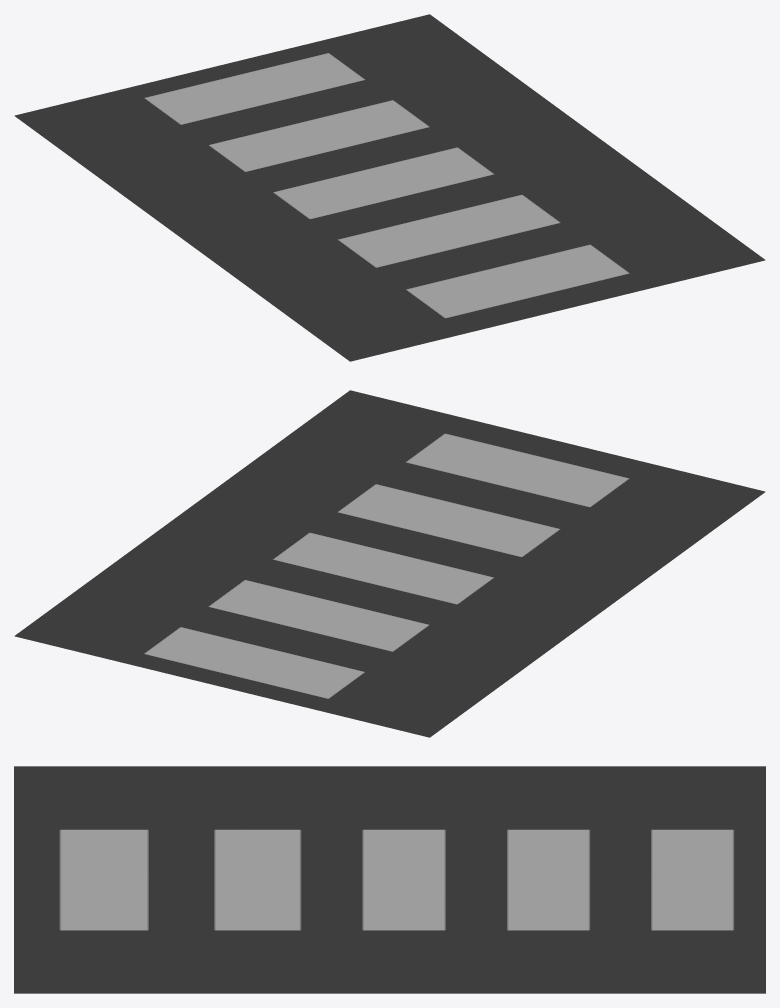
Rendered from road_crossing_center_mesh.fbx.
3 renders of one model, top to bottom at view 1: azimuth 30°, elevation 25°; view 2: azimuth 150°, elevation 25°; view 3: azimuth 270°, elevation 25°, orthographic. The views are drawn at different scales.
Parts seen in each view (by area): view 1: road_crossing_center_mesh; view 2: road_crossing_center_mesh; view 3: road_crossing_center_mesh.
Boxes of the visible parts, x1,y1,x2,y2 form: road_crossing_center_mesh: [14, 14, 765, 361]; road_crossing_center_mesh: [14, 390, 765, 737]; road_crossing_center_mesh: [14, 766, 765, 993].
Bounding box in the file's own units: 50 × 0 × 70.
1 material, 1 textured.
